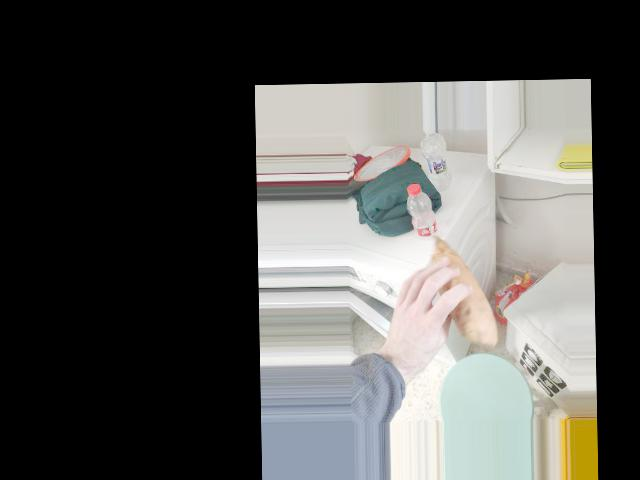sweet_potato: (412, 242, 494, 328)
